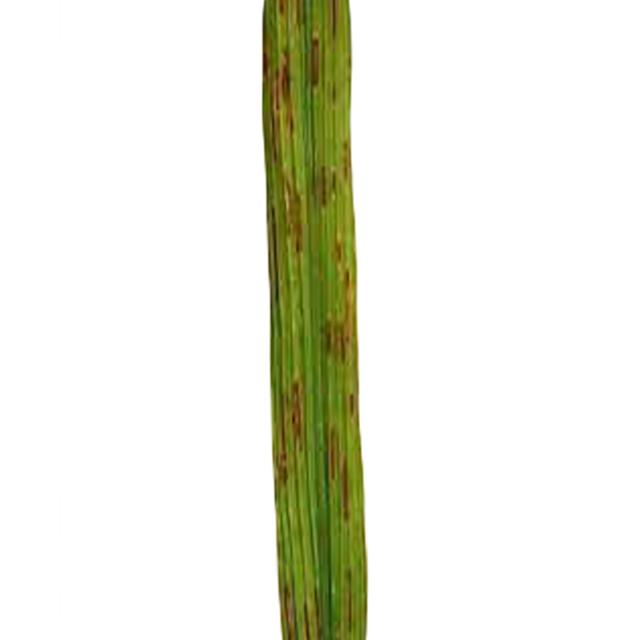Brown spot: (249, 0, 388, 640)
